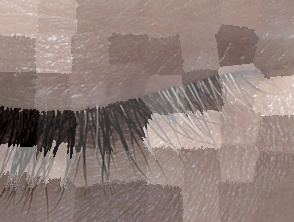vitiligo: (127, 44, 290, 186)
